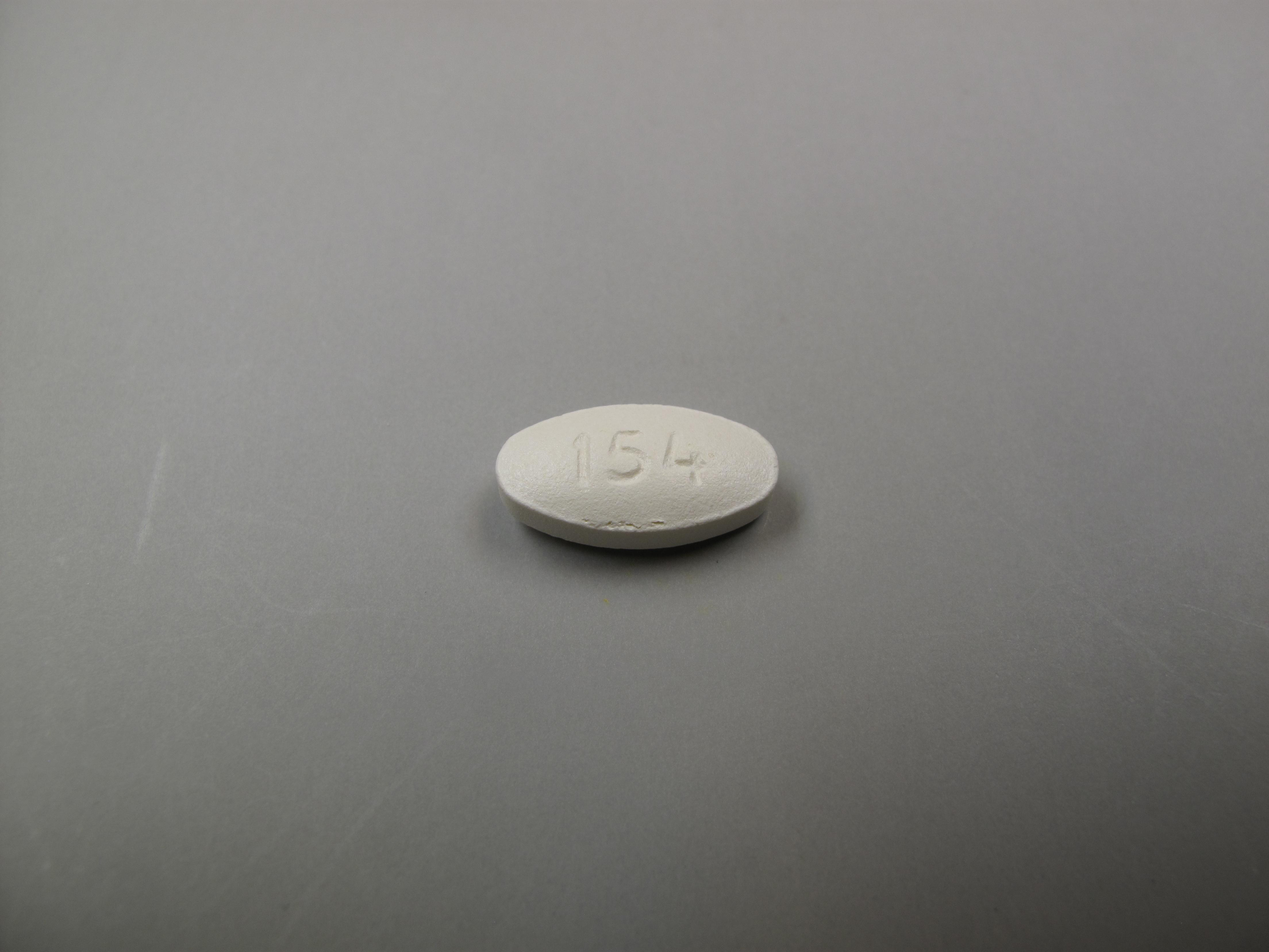Pill: (487, 397, 789, 561)
